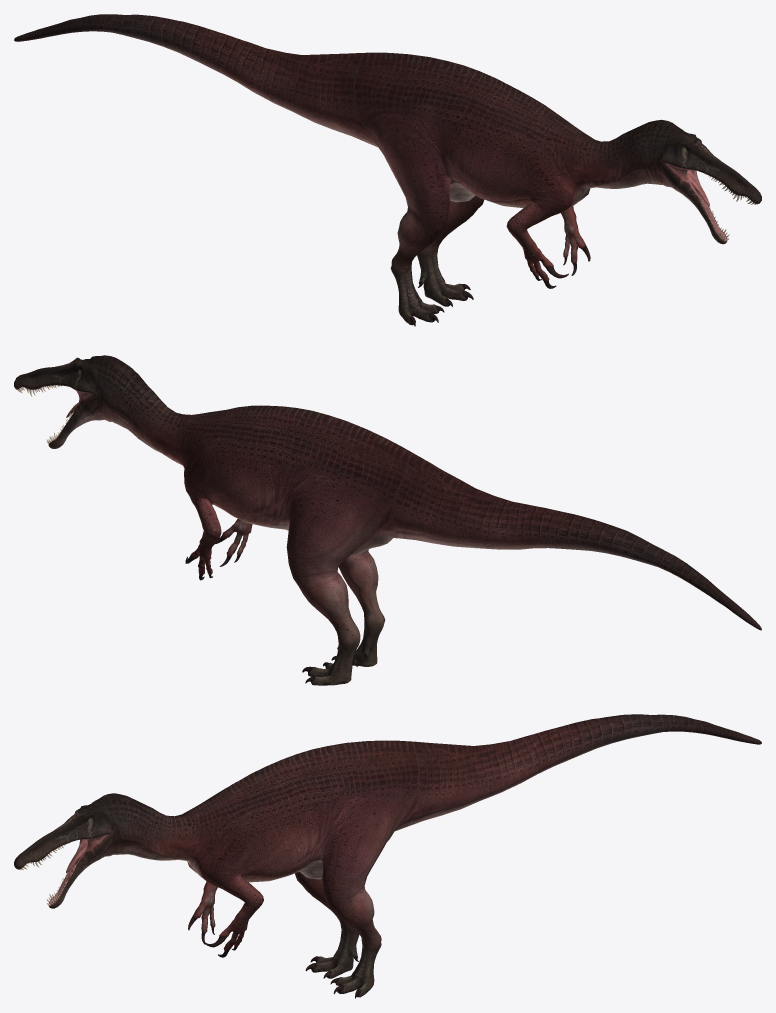
File: dinosaurio1.fbx
3 renders of one model, top to bottom at view 1: azimuth 30°, elevation 25°; view 2: azimuth 210°, elevation 25°; view 3: azimuth 270°, elevation 25°, orthographic. The views are drawn at different scales.
Parts seen in each view (by area): view 1: mesh_0; view 2: mesh_0; view 3: mesh_0.
Part boxes in pixels (x1,y1,x2,y2): mesh_0: (14,14,761,326); mesh_0: (14,355,761,685); mesh_0: (14,714,761,998).
Size of the model in its own units: 486 by 328 by 937.
Materials: 1 (1 with a texture image).
